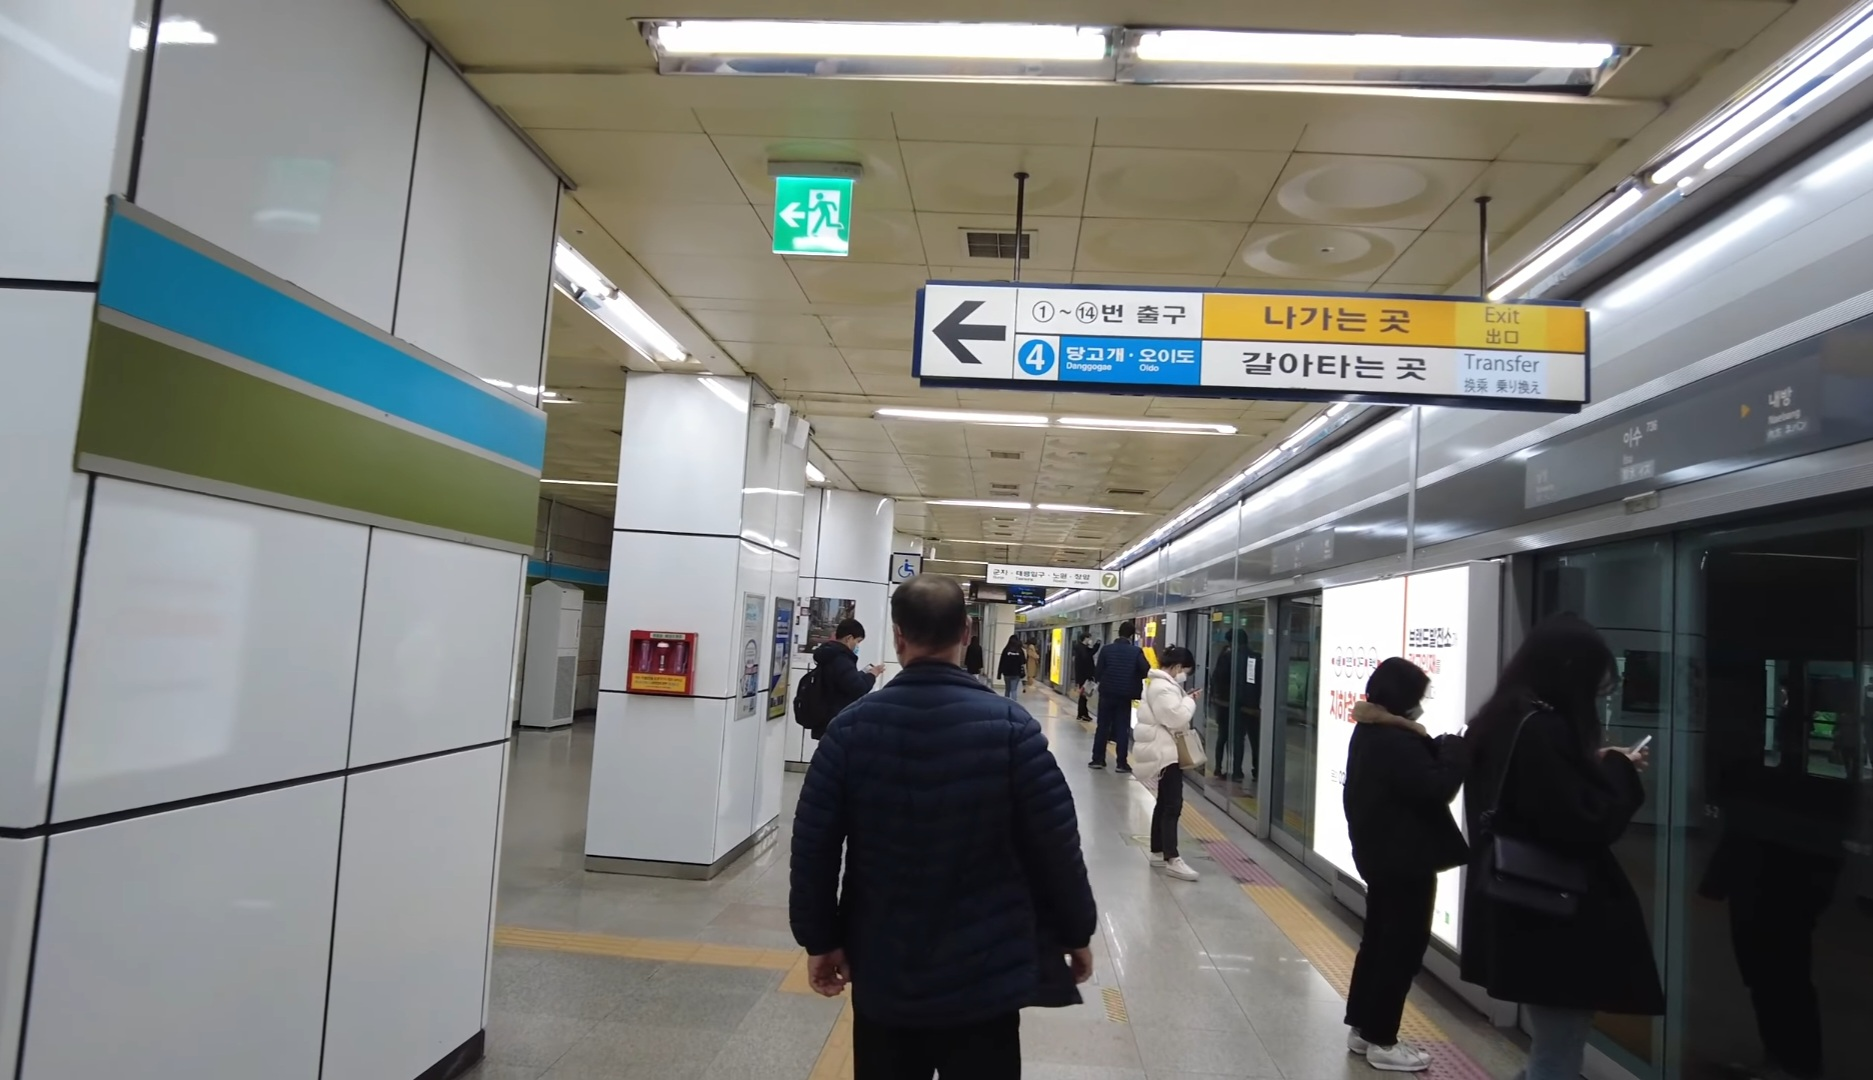signBoard: (916, 273, 1594, 415)
